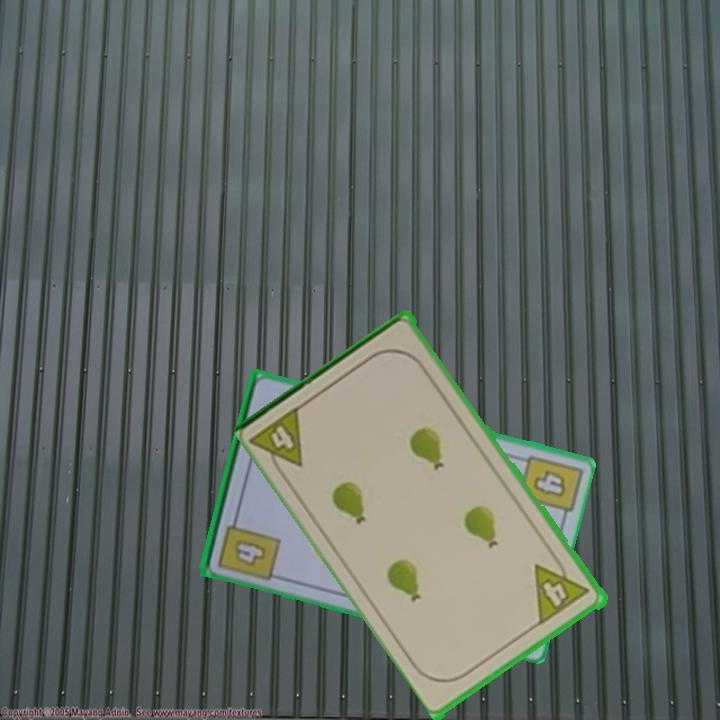4b: (214, 508, 283, 584), (530, 466, 570, 500)
4p: (248, 401, 307, 482), (531, 550, 593, 627)
